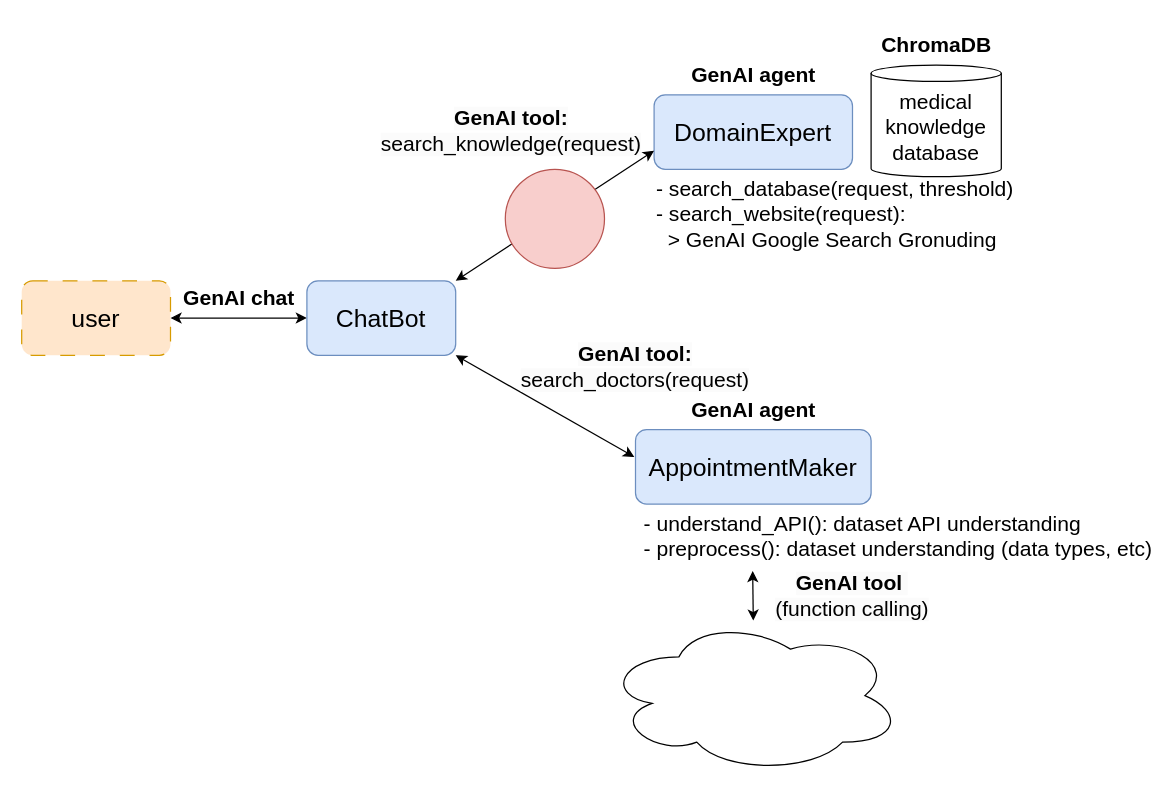
Some shapes in this 1174 by 795 pixel diagram are drawn without their labels. The box of each missing label's shape, as (x1, y1, x2, y2) in pixels:
online doctor database (CMS dataset API): (603, 617, 902, 773)
RAG: (504, 168, 604, 268)
